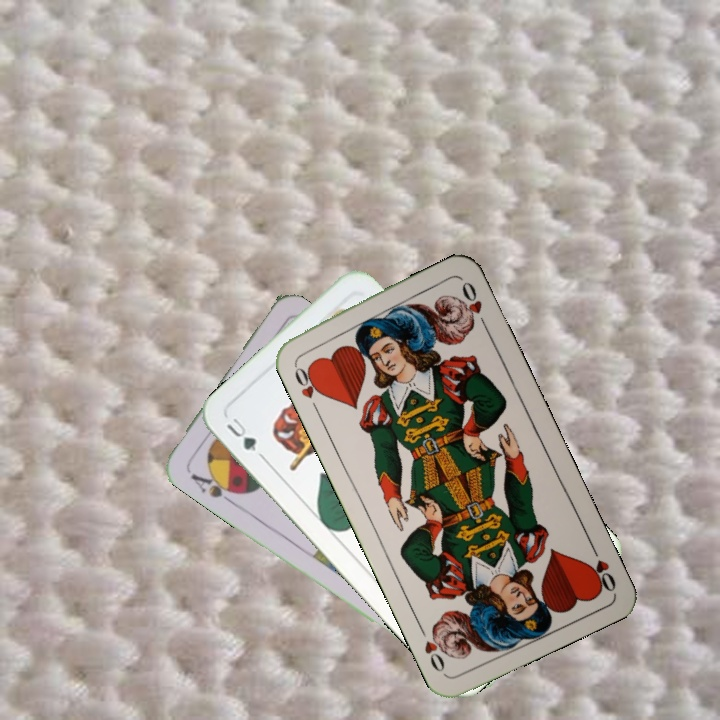GU: (222, 413, 259, 455)
HO: (289, 358, 327, 414), (584, 538, 619, 595)
SA: (186, 467, 242, 507)
